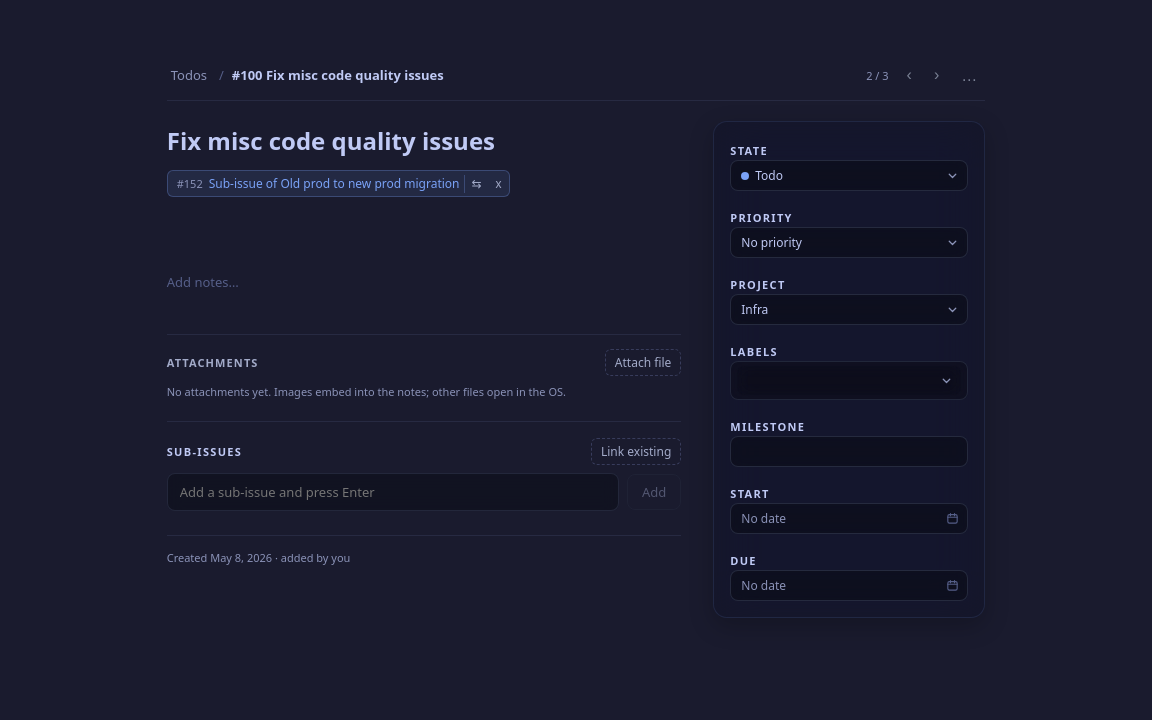
it: TodoDetailPage sub-issues › clicking Change parent opens the picker, without navigating
The image size is (1152, 720).
Expected: the text box named "Title" is shown, [167,121,681,160]
Step 1. Click the button named "Change parent" → [476, 184], box [464,175,489,193]
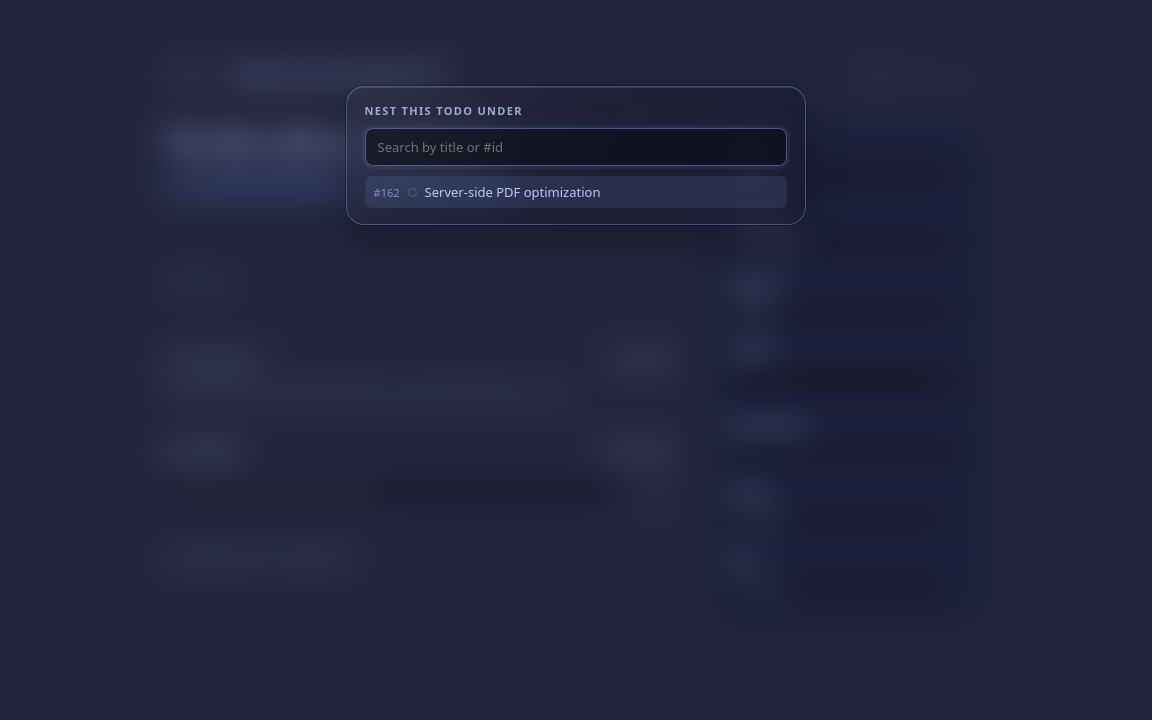
Expected: the dialog "Nest this todo under" is shown, [346,86,806,225]
